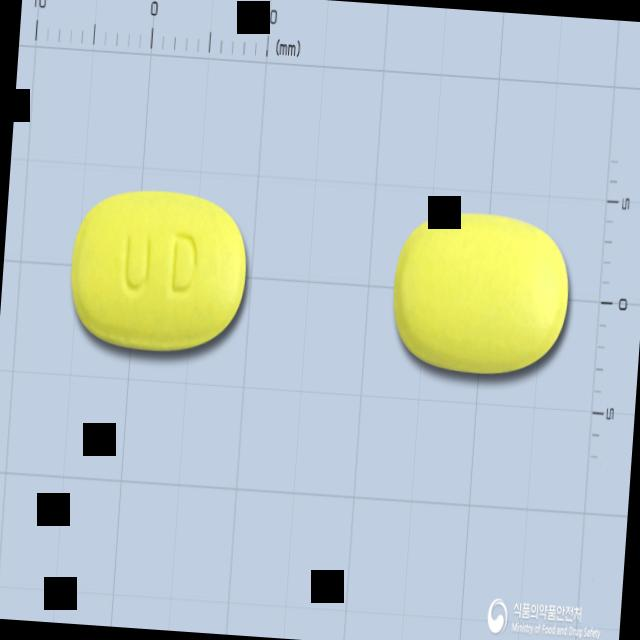Claxin - 500mg: (62, 180, 254, 362)
